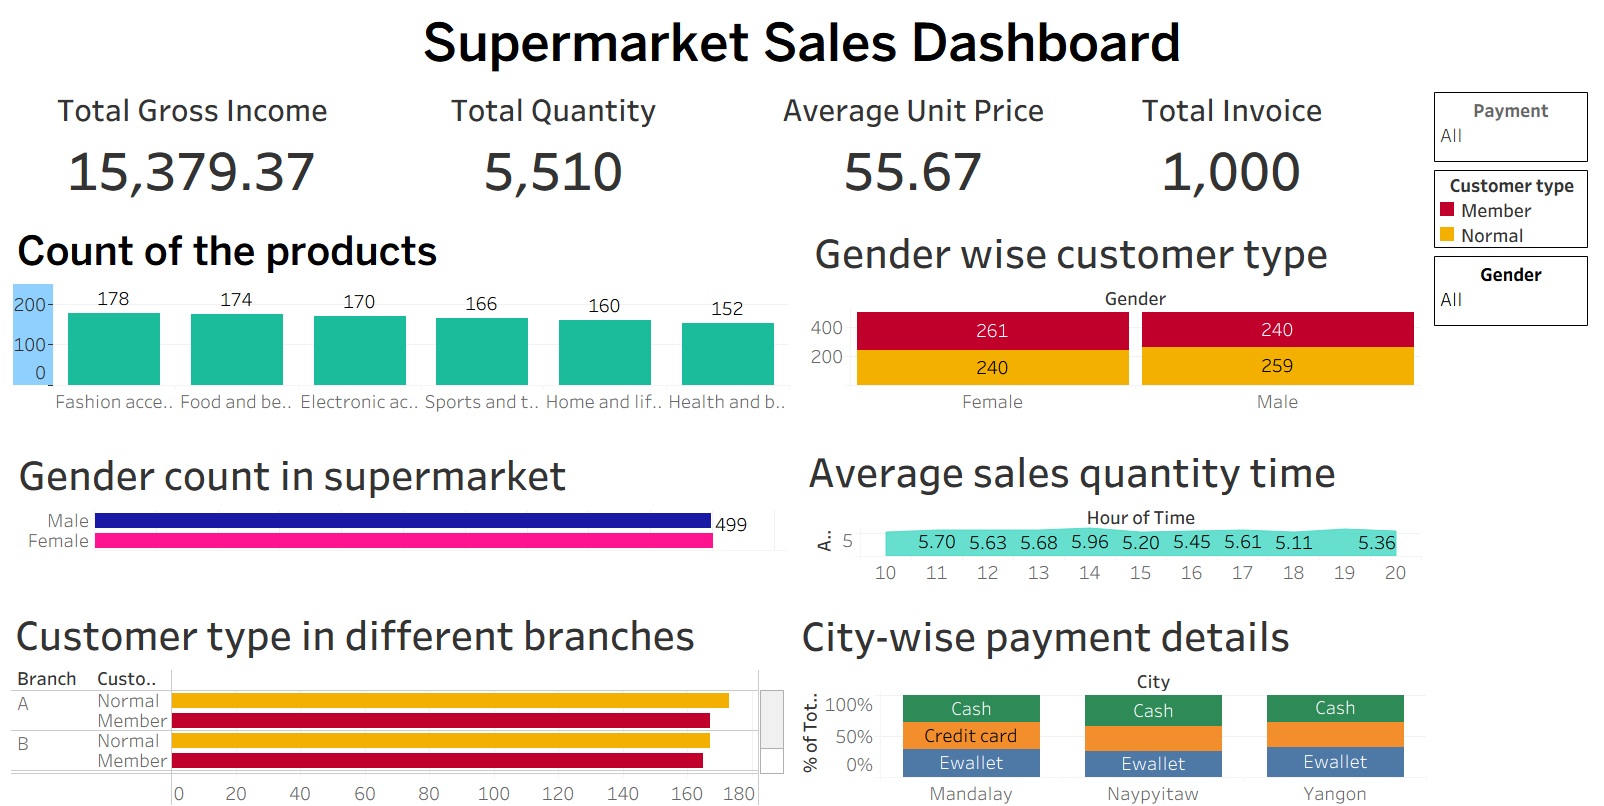

What the dashboard file says about the page in this screenshot:
{"tool":"tableau","page":{"name":"Dashboard 1","canvas":[1000,1000],"units":"permille","ordinal":0},"visuals":[{"type":"title","box":[5,9.9,990,88.1]},{"type":"worksheet","title":"Total Gross Income","mark":"Automatic","box":[7.5,96.8,224.8,157.6]},{"type":"worksheet","title":"Total Quantity","mark":"Automatic","box":[232.3,96.8,224.8,157.6]},{"type":"worksheet","title":"Average Unit Price","mark":"Automatic","box":[457.2,96.8,224.8,157.6]},{"type":"worksheet","title":"Total Invoice","mark":"Automatic","box":[682,96.8,172.1,157.6]},{"type":"filter","title":"City-wise payment details","param":"[federated.12quiph0jfc6wv13zpus60njrbwl].[none:Payment:nk]","box":[891.5,109.2,101,96.8]},{"type":"legend","title":"Gender wise customer type","param":"[federated.12quiph0jfc6wv13zpus60njrbwl].[none:Customer type:nk]","box":[891.5,206,101,106.7]},{"type":"worksheet","title":"Gender wise customer type","mark":"Automatic","rows":["Customer type"],"cols":["Gender"],"box":[505,270.5,380.3,243.2]},{"type":"worksheet","title":"Count of Products","mark":"Automatic","rows":["Product line"],"cols":["Product line"],"box":[8.1,274.2,483.8,239.5]},{"type":"filter","title":"Gender wise customer type","param":"[federated.12quiph0jfc6wv13zpus60njrbwl].[none:Gender:nk]","box":[891.5,312.7,101,96.8]},{"type":"worksheet","title":"Average sales quantity time","mark":"Area","rows":["Quantity"],"cols":["Time"],"box":[501.2,542.2,384.7,183.6]},{"type":"worksheet","title":"Gender count in supermarket","mark":"Automatic","rows":["Gender"],"cols":["Gender"],"box":[8.7,545.9,481.3,181.1]},{"type":"worksheet","title":"Customer type in different branches","mark":"Bar","rows":["Branch","Customer type"],"cols":["Customer type"],"box":[6.9,744.4,481.9,255.6]},{"type":"worksheet","title":"City-wise payment details","mark":"Automatic","cols":["City"],"box":[496.9,745.7,392.1,254.3]}]}

Visuals, with their boxes on the dashboard's canvas, which has no fixed pixel size, in thousandths of its width and height (x1, y1, x2, y2). These are canvas units, not pixel positions in the 1604x806 screenshot, which may show the page scaled, cropped or inside an application window:
title: [x1=5, y1=10, x2=995, y2=98]
"Total Gross Income" worksheet: [x1=8, y1=97, x2=232, y2=254]
"Total Quantity" worksheet: [x1=232, y1=97, x2=457, y2=254]
"Average Unit Price" worksheet: [x1=457, y1=97, x2=682, y2=254]
"Total Invoice" worksheet: [x1=682, y1=97, x2=854, y2=254]
"City-wise payment details" filter: [x1=892, y1=109, x2=992, y2=206]
"Gender wise customer type" legend: [x1=892, y1=206, x2=992, y2=313]
"Gender wise customer type" worksheet: [x1=505, y1=270, x2=885, y2=514]
"Count of Products" worksheet: [x1=8, y1=274, x2=492, y2=514]
"Gender wise customer type" filter: [x1=892, y1=313, x2=992, y2=410]
"Average sales quantity time" worksheet (Area marks): [x1=501, y1=542, x2=886, y2=726]
"Gender count in supermarket" worksheet: [x1=9, y1=546, x2=490, y2=727]
"Customer type in different branches" worksheet (Bar marks): [x1=7, y1=744, x2=489, y2=1000]
"City-wise payment details" worksheet: [x1=497, y1=746, x2=889, y2=1000]
